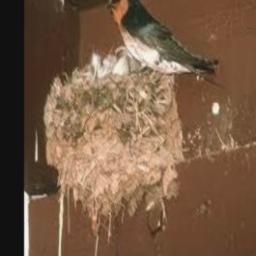Swallow: (107, 0, 218, 77)
